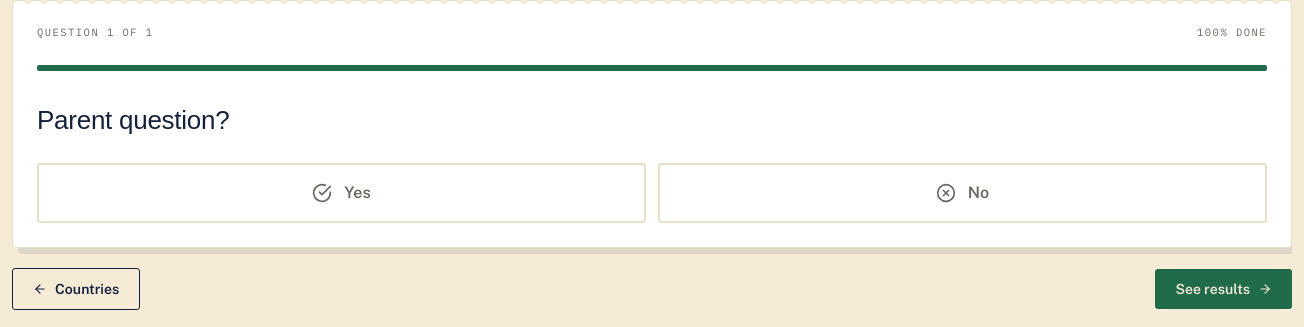
Test: CountryChecker — Phase 5B: show_if visibility › shows a question once its parent answer satisfies show_if
# Answer parent Yes → advance to next visible question
Step 1. Click the button "Yes" → {"x": 342, "y": 192}, box [37,162,646,222]
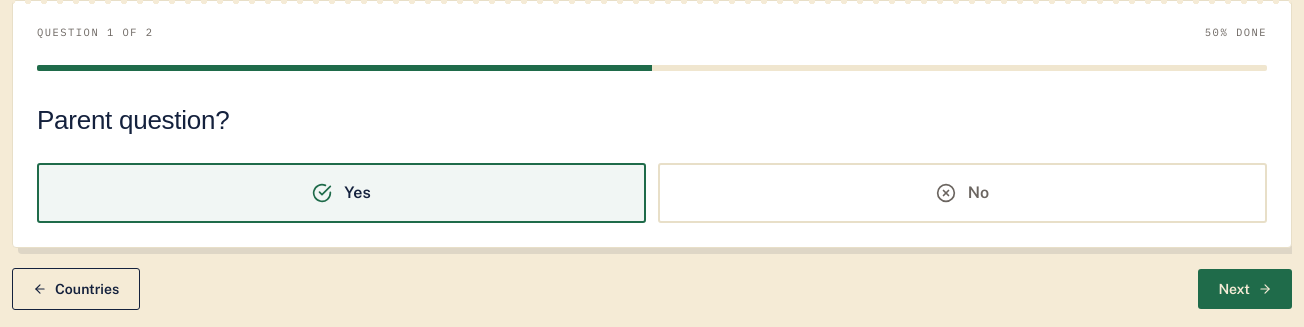
Step 2. Click the button "Next" → {"x": 1245, "y": 288}, box [1198,268,1292,308]
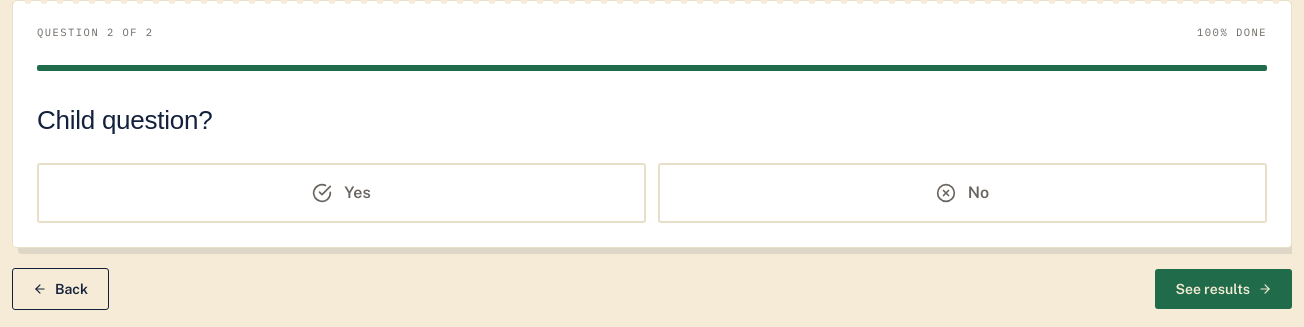
Now the heading "Child question?" is shown, box [37,105,212,135]
